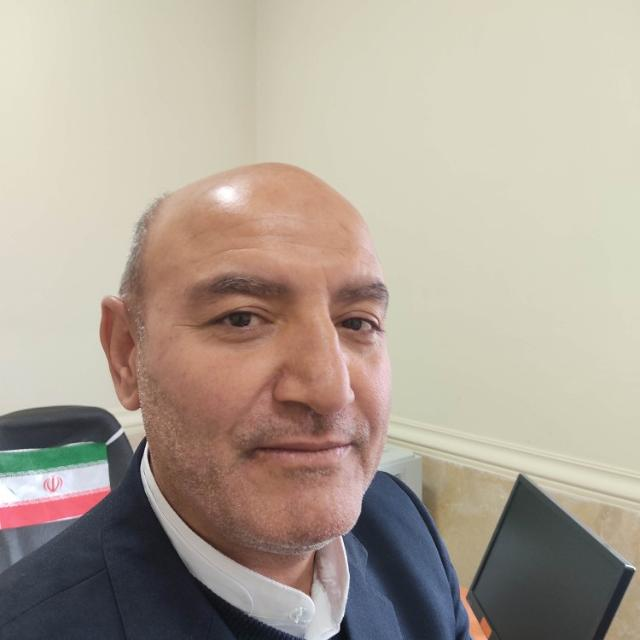crows_feet: (171, 315, 201, 333)
forehead: (216, 242, 260, 260)
frown_line: (318, 266, 338, 296)
